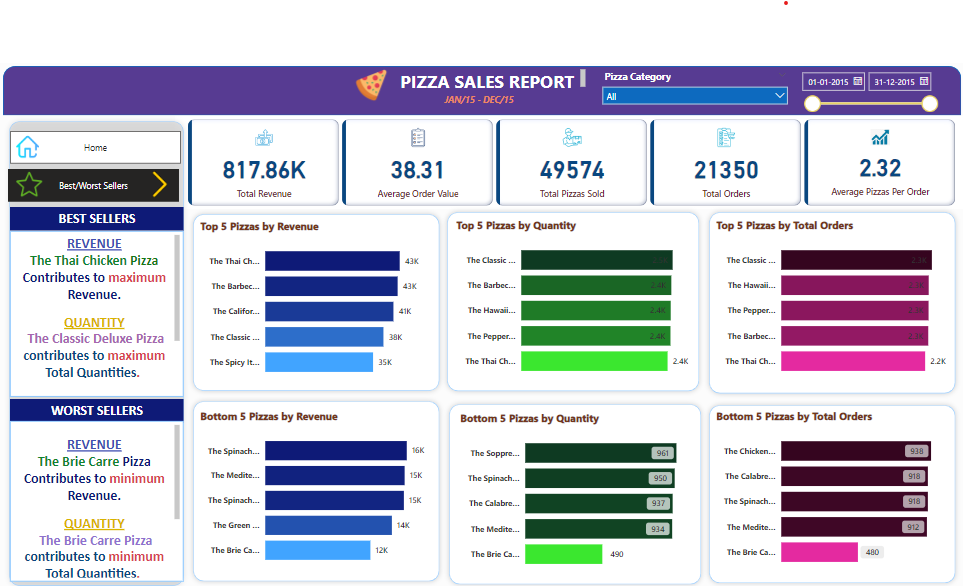

This screenshot's page, from the dashboard's own definition file:
{"tool":"powerbi","page":{"name":"Best/Worst Sellers","canvas":[1500,820],"ordinal":1},"visuals":[{"type":"shape","box":[12.1,12.1,1474.1,75.9],"z":0},{"type":"textbox","box":[619,12.1,294.8,41.4],"z":1000},{"type":"textbox","box":[686.2,50,127.6,27.6],"z":2000},{"type":"image","box":[537.9,12.1,81,58.6],"z":3000},{"type":"shape","box":[296.6,232.8,394.8,287.9],"z":4000},{"type":"cardVisual","fields":{"Data":["pizza_sales.Total Revenue","pizza_sales.Average Order Value","pizza_sales.Total Pizzas Sold","pizza_sales.Total Orders","pizza_sales.Average Pizzas Per Order"]},"box":[277.6,89.7,1222.4,143.1],"z":5000},{"type":"shape","box":[13.8,89.7,284.5,731],"z":6000},{"type":"textbox","box":[22.4,265.5,267.2,255.2],"z":7000},{"type":"textbox","box":[22.4,524.1,267.2,36.2],"z":8000},{"type":"textbox","box":[22.4,229.3,267.2,36.2],"z":9000},{"type":"textbox","box":[22.4,558.6,267.2,246.6],"z":10000},{"type":"slicer","fields":{"Values":["pizza_sales.pizza_category"]},"box":[924.1,12.1,305.2,65.5],"z":11000},{"type":"slicer","fields":{"Values":["pizza_sales.order_date"]},"box":[1229.3,12.1,243.1,75.9],"z":12000},{"type":"shape","box":[687.9,229.3,403.4,291.4],"z":13000},{"type":"shape","box":[1091.4,229.3,394.8,294.8],"z":14000},{"type":"shape","box":[296.6,520.7,394.8,293.1],"z":15000},{"type":"shape","box":[691.4,524.1,403.4,293.1],"z":16000},{"type":"shape","box":[1091.4,525.9,394.8,289.7],"z":17000},{"type":"barChart","title":"Top 5 Pizzas by Revenue","fields":{"Category":["pizza_sales.pizza_name"],"Y":["pizza_sales.Total Revenue"]},"box":[310.3,248.3,367.2,256.9],"z":18000},{"type":"barChart","title":"Bottom 5 Pizzas by Revenue","fields":{"Category":["pizza_sales.pizza_name"],"Y":["pizza_sales.Total Revenue"]},"box":[310.3,539.7,367.2,253.4],"z":19000},{"type":"barChart","title":"Top 5 Pizzas by Quantity","fields":{"Category":["pizza_sales.pizza_name"],"Y":["pizza_sales.Total Pizzas Sold"]},"box":[705.2,246.6,367.2,256.9],"z":20000},{"type":"barChart","title":"Bottom 5 Pizzas by Quantity","fields":{"Category":["pizza_sales.pizza_name"],"Y":["pizza_sales.Total Pizzas Sold"]},"box":[710.3,543.1,367.2,256.9],"z":21000},{"type":"barChart","title":"Top 5 Pizzas by Total Orders","fields":{"Category":["pizza_sales.pizza_name"],"Y":["pizza_sales.Total Orders"]},"box":[1105.2,246.6,367.2,256.9],"z":22000},{"type":"barChart","title":"Bottom 5 Pizzas by Total Orders","fields":{"Category":["pizza_sales.pizza_name"],"Y":["pizza_sales.Total Orders"]},"box":[1105.2,539.7,367.2,256.9],"z":23000},{"type":"pageNavigator","box":[0,112.1,310.3,50],"z":24000},{"type":"pageNavigator","box":[22.4,112.1,263,50],"z":25000},{"type":"pageNavigator","box":[20.7,170.7,263,50],"z":26000},{"type":"image","box":[227.6,169,51.7,50],"z":27000},{"type":"image","box":[27.6,106.9,44.8,60.3],"z":27001},{"type":"image","box":[27.6,163.8,50,62.1],"z":27002}]}

Visuals, with their boxes on the page's 1500x820 design canvas (x1, y1, x2, y2). These are canvas units, not pixel positions in the 963x586 screenshot, which may show the page scaled, cropped or inside an application window:
shape: 12 12 1486 88
textbox: 619 12 914 54
textbox: 686 50 814 78
image: 538 12 619 71
shape: 297 233 691 521
cardVisual - pizza_sales.Total Revenue x pizza_sales.Average Order Value: 278 90 1500 233
shape: 14 90 298 821
textbox: 22 266 290 521
textbox: 22 524 290 560
textbox: 22 229 290 266
textbox: 22 559 290 805
slicer - pizza_sales.pizza_category: 924 12 1229 78
slicer - pizza_sales.order_date: 1229 12 1472 88
shape: 688 229 1091 521
shape: 1091 229 1486 524
shape: 297 521 691 814
shape: 691 524 1095 817
shape: 1091 526 1486 816
"Top 5 Pizzas by Revenue" barChart: 310 248 678 505
"Bottom 5 Pizzas by Revenue" barChart: 310 540 678 793
"Top 5 Pizzas by Quantity" barChart: 705 247 1072 504
"Bottom 5 Pizzas by Quantity" barChart: 710 543 1078 800
"Top 5 Pizzas by Total Orders" barChart: 1105 247 1472 504
"Bottom 5 Pizzas by Total Orders" barChart: 1105 540 1472 797
pageNavigator: 0 112 310 162
pageNavigator: 22 112 285 162
pageNavigator: 21 171 284 221
image: 228 169 279 219
image: 28 107 72 167
image: 28 164 78 226
